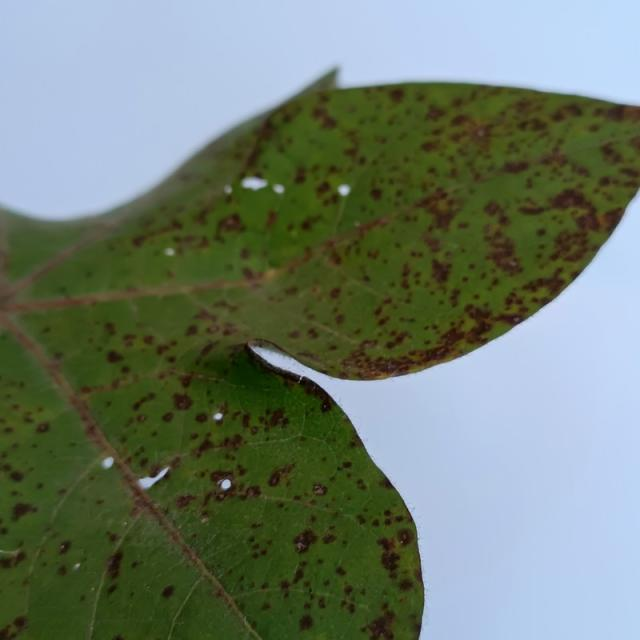Bacterial_Blight: (541, 221, 597, 266), (409, 188, 461, 230), (436, 112, 491, 151), (515, 271, 572, 305), (480, 230, 522, 275), (426, 320, 480, 355), (241, 525, 285, 565), (290, 521, 329, 558), (548, 186, 590, 212), (0, 544, 30, 570), (366, 611, 393, 638), (597, 206, 625, 232), (267, 462, 296, 487), (429, 256, 453, 286), (216, 211, 244, 236), (193, 434, 222, 458), (550, 103, 583, 122), (496, 308, 529, 326), (10, 500, 38, 521), (104, 548, 124, 577), (210, 470, 235, 493), (131, 392, 158, 413), (516, 116, 547, 133), (380, 548, 401, 572), (501, 158, 531, 174), (192, 307, 220, 324), (197, 340, 222, 359), (482, 200, 506, 219), (172, 390, 193, 411), (266, 407, 287, 428), (395, 528, 414, 549), (173, 493, 195, 509), (378, 534, 397, 552), (298, 613, 314, 632), (106, 349, 125, 364), (121, 333, 140, 348), (264, 210, 278, 230), (292, 564, 305, 585), (315, 180, 332, 196), (388, 87, 405, 103), (293, 166, 307, 185), (359, 338, 378, 352), (414, 560, 424, 585), (398, 578, 414, 593), (11, 615, 27, 630), (8, 469, 25, 483), (161, 584, 176, 599), (0, 554, 15, 569), (244, 485, 260, 499), (57, 540, 71, 555), (184, 323, 199, 337), (241, 266, 256, 280), (103, 321, 117, 336), (369, 187, 383, 201), (268, 472, 281, 487), (312, 483, 328, 495), (319, 399, 332, 413), (35, 421, 50, 433), (194, 412, 208, 424), (161, 411, 174, 423), (329, 287, 341, 300), (306, 327, 319, 339), (335, 565, 347, 577), (57, 564, 69, 576), (142, 334, 155, 345), (343, 584, 354, 596), (536, 227, 547, 237), (357, 514, 367, 525), (317, 597, 326, 609), (341, 460, 352, 469), (137, 413, 147, 422), (79, 595, 86, 603)
Cotton: (0, 72, 639, 639)
